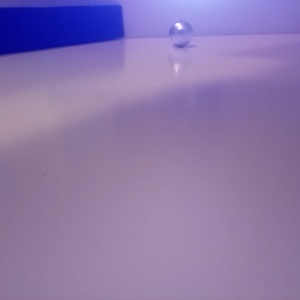alive_ball: (89, 102, 226, 239), (1, 75, 58, 241)
dead_ball: (1, 42, 108, 165), (107, 73, 203, 165)
